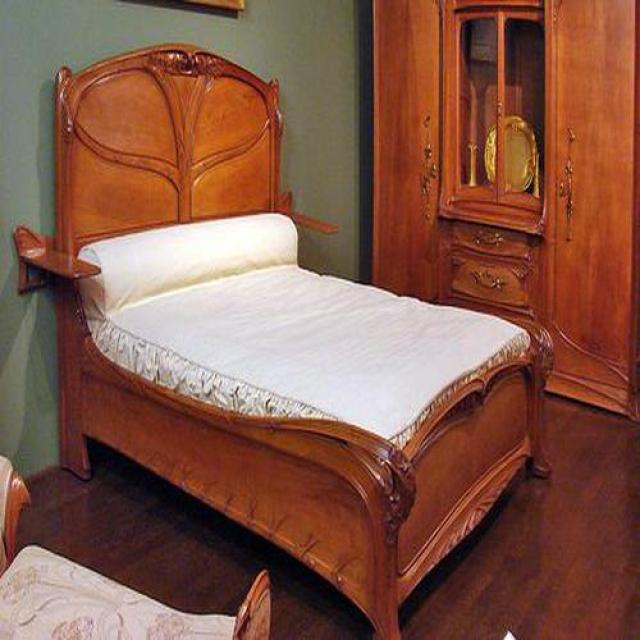bed: (14, 45, 554, 640)
